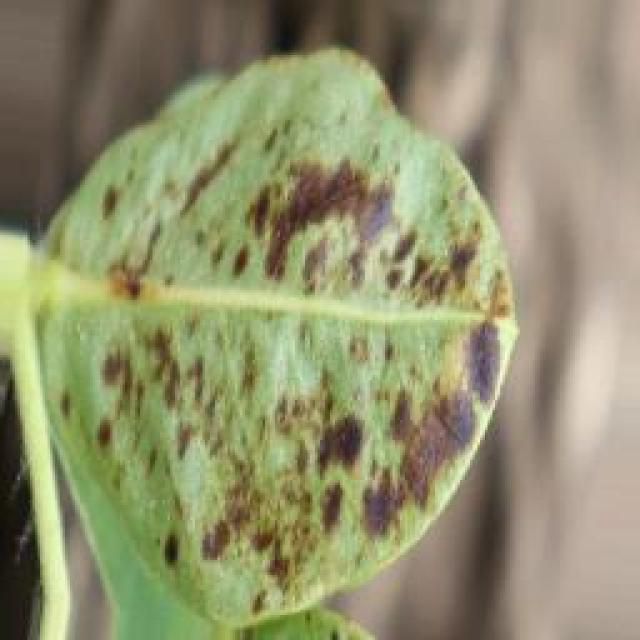Whitefly: (44, 62, 536, 604)
